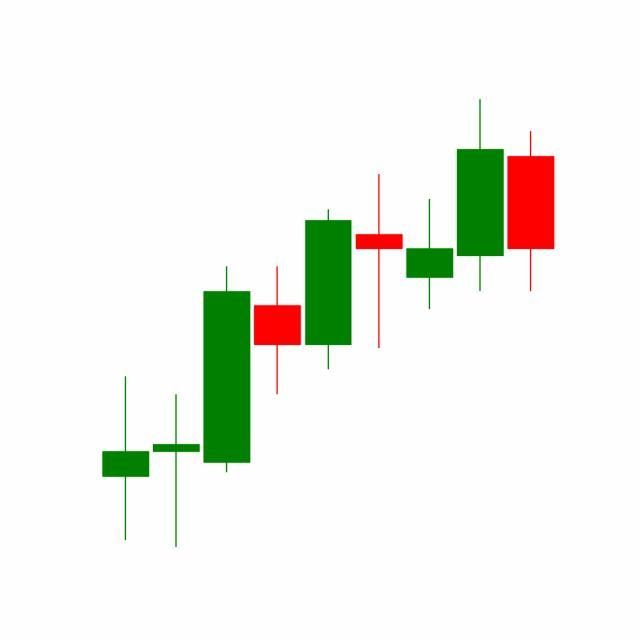Hikkake Pattern: (252, 99, 506, 399)
